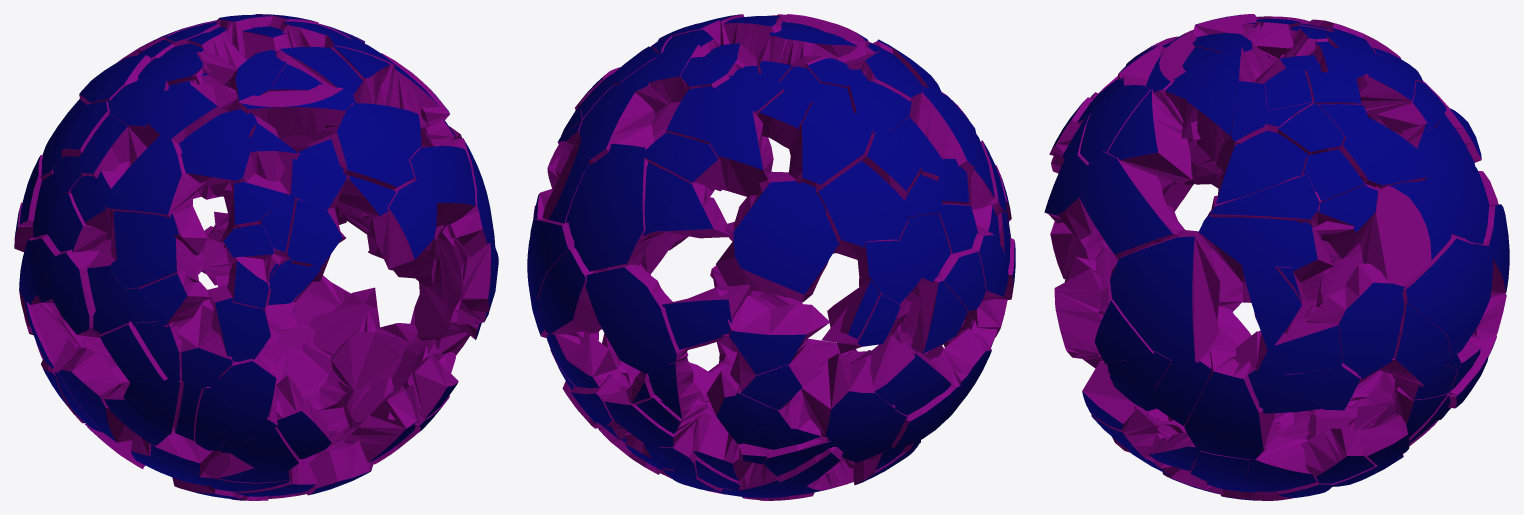
File: SM_BrittleHollow_02.fbx
3 views of the same model, side by side, from view 1: azimuth 30°, elevation 25°; view 2: azimuth 150°, elevation 25°; view 3: azimuth 270°, elevation 25° (orthographic).
Visible parts, largest first — view 1: matchsize1; view 2: matchsize1; view 3: matchsize1.
Boxes of the visible parts, bbox=[...] form: matchsize1: bbox=[14, 14, 498, 500]; matchsize1: bbox=[527, 14, 1015, 500]; matchsize1: bbox=[1044, 14, 1509, 500].
Bounding box in the file's own units: 111 × 110 × 107.
